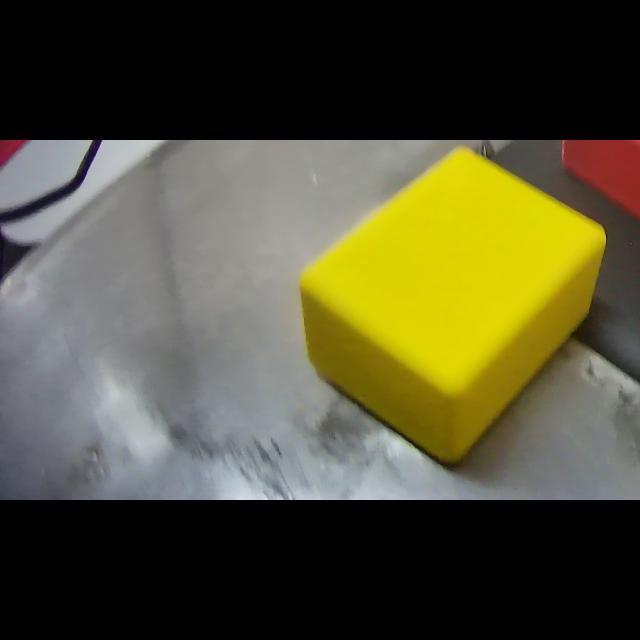redBox: (560, 140, 640, 248)
yellowBox: (298, 144, 612, 470)
